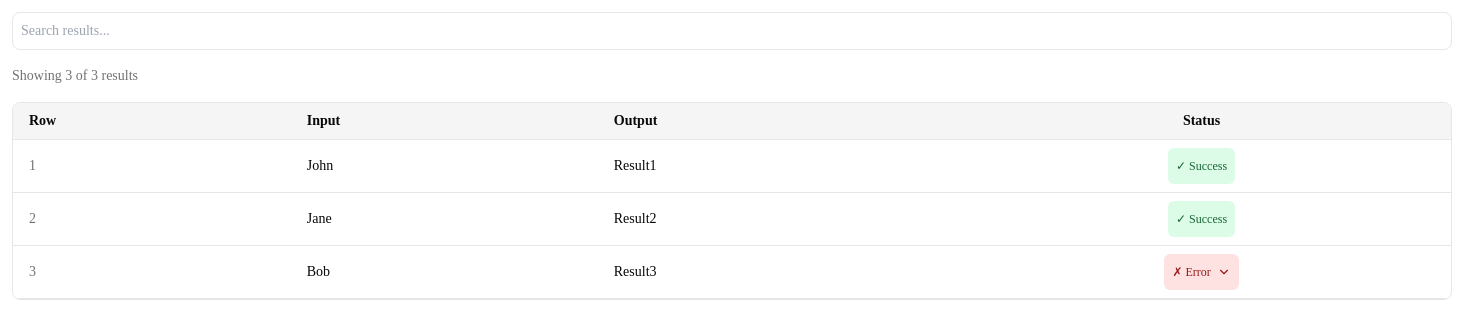
Test: ResultsTable › filters results by search term
This screenshot has width=1464, height=317.
Type "Jane" into the field with placeholder "Search results..." at (732, 31), box 12,12 -> 1452,50
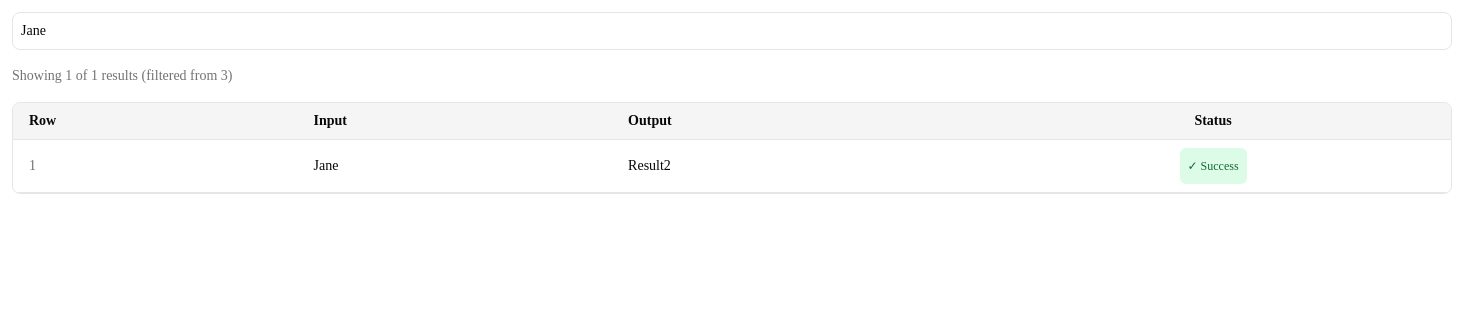
Expected: the text "Jane" is shown, 298,140 -> 612,192
Expected: the text "John" is gone
